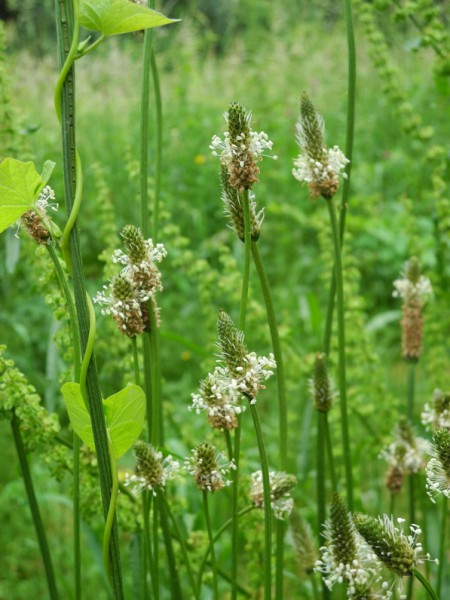buckhorn plantain: (27, 91, 444, 600)
